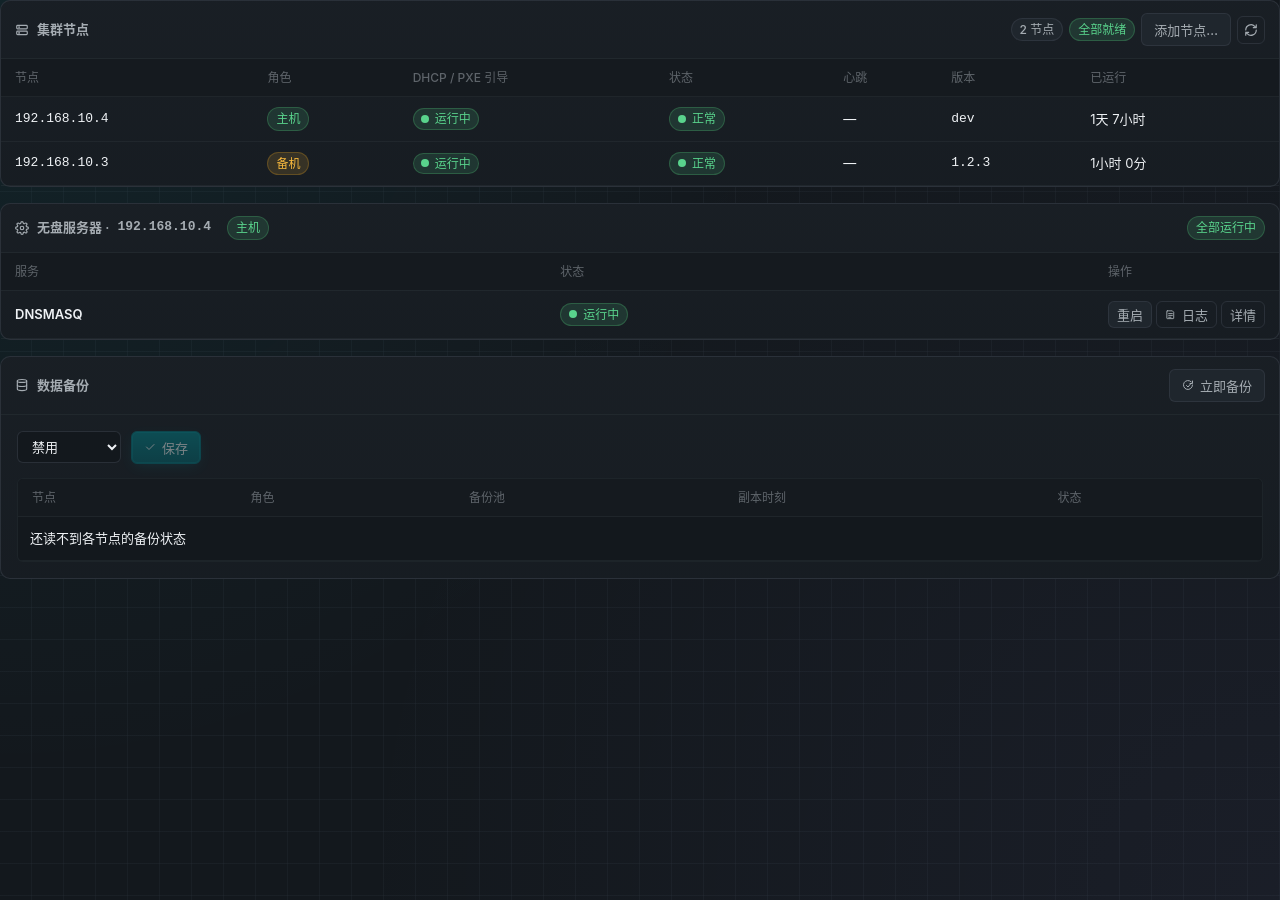
服务器页以节点为中心 › 选另一台，服务区就跟过去——标题写死是哪台
The width and height of the screenshot is (1280, 900).
Expected: the text "192.168.10.4" is shown, x1=117 y1=218 x2=211 y2=237
Click the row "192.168.10.3 备机 运行中 正常 — 1.2.3 1小时 0分".
click(640, 164)  # box x1=1 y1=141 x2=1279 y2=186
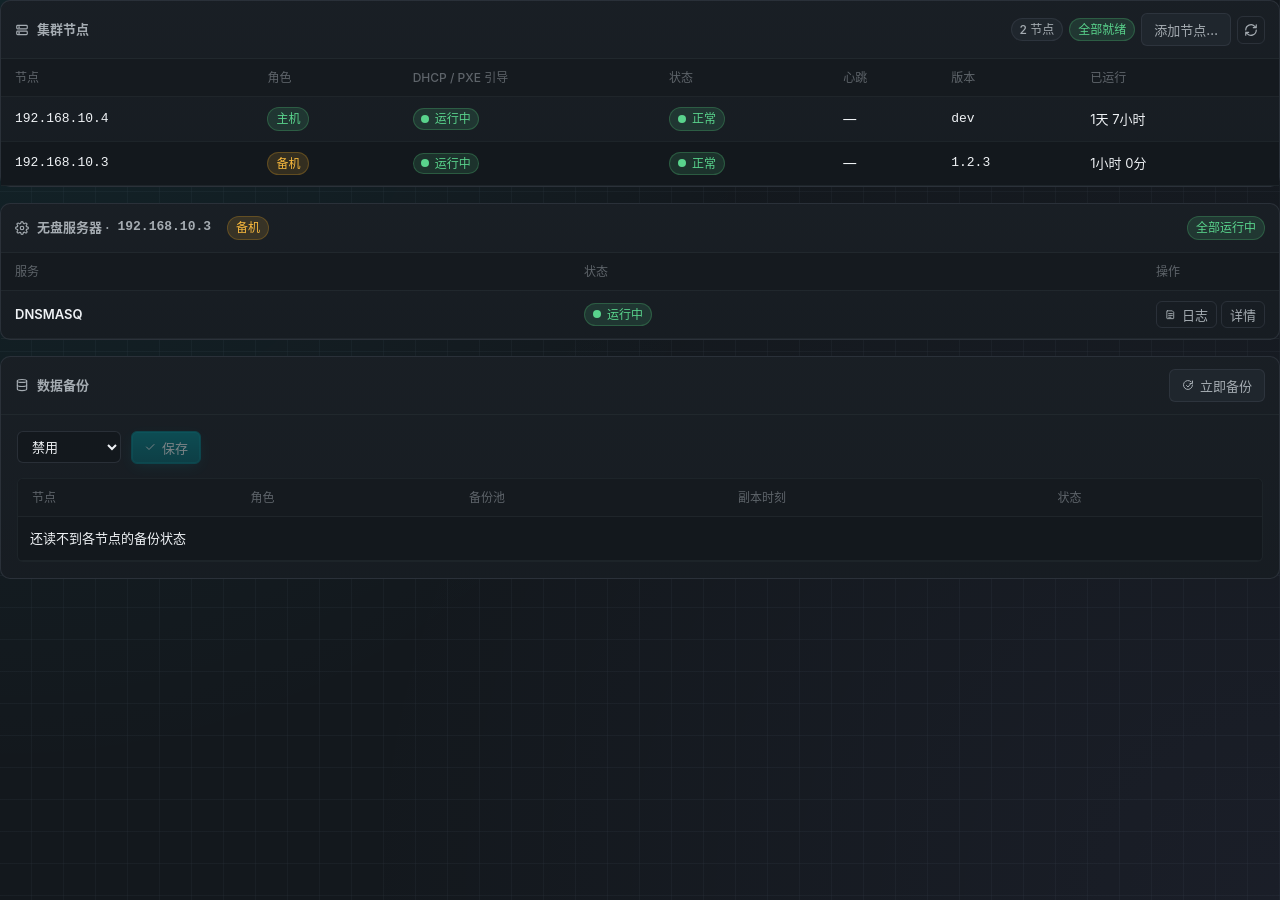
Expected: the text "192.168.10.3" is shown, x1=117 y1=218 x2=211 y2=237
Expected: the text "备机" in the row of "无盘服务器 ·" is shown, x1=236 y1=220 x2=260 y2=235
